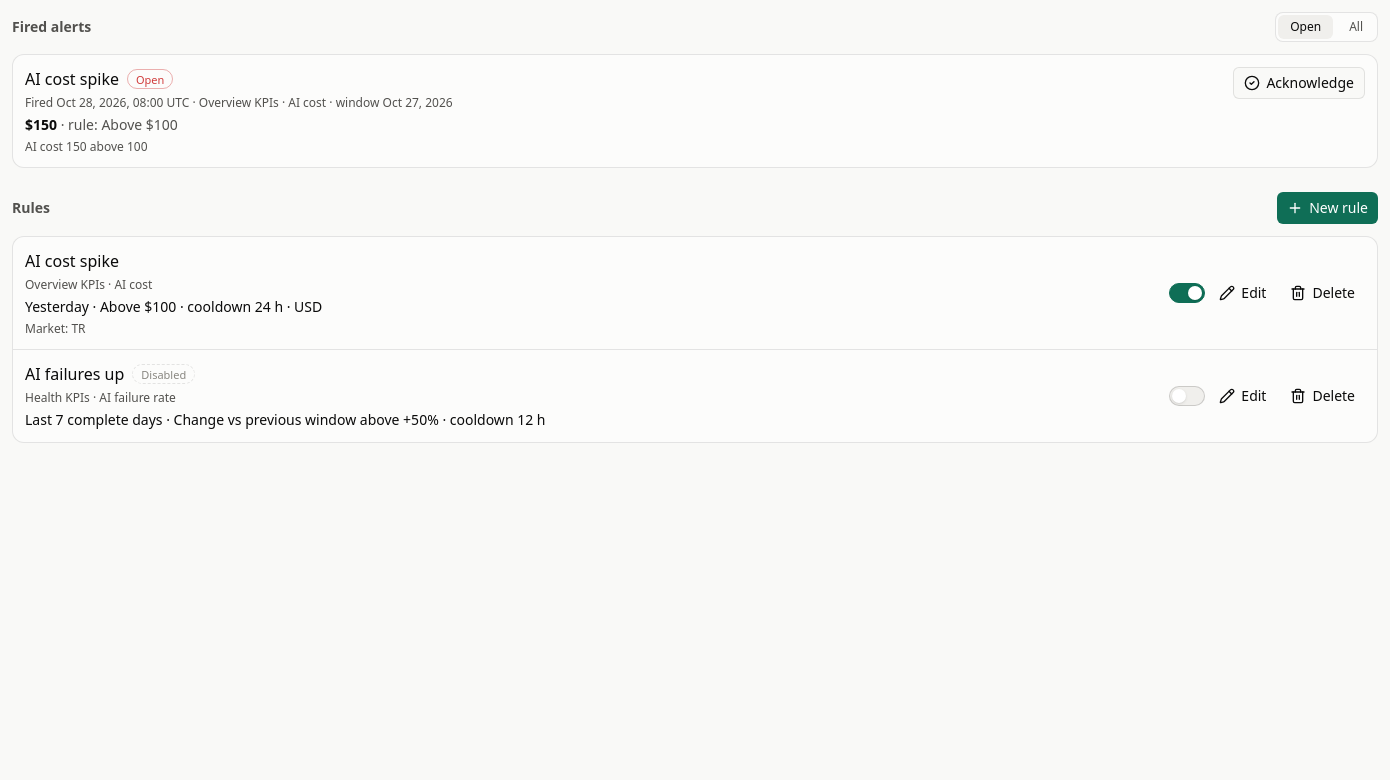
Test case: Alerts page › shows open events with value vs threshold, and all events with baselines and who acknowledged
This screenshot has width=1390, height=780.
Expected: the text "$150" is shown, [25,115,57,134]
Expected: the text "· rule: Above $100" is shown, [57,115,178,134]
What coordinates should you click on to do the following:
click the tab "All"
I would click on:
 (1356, 27)
Its box is [1337,15,1375,39].
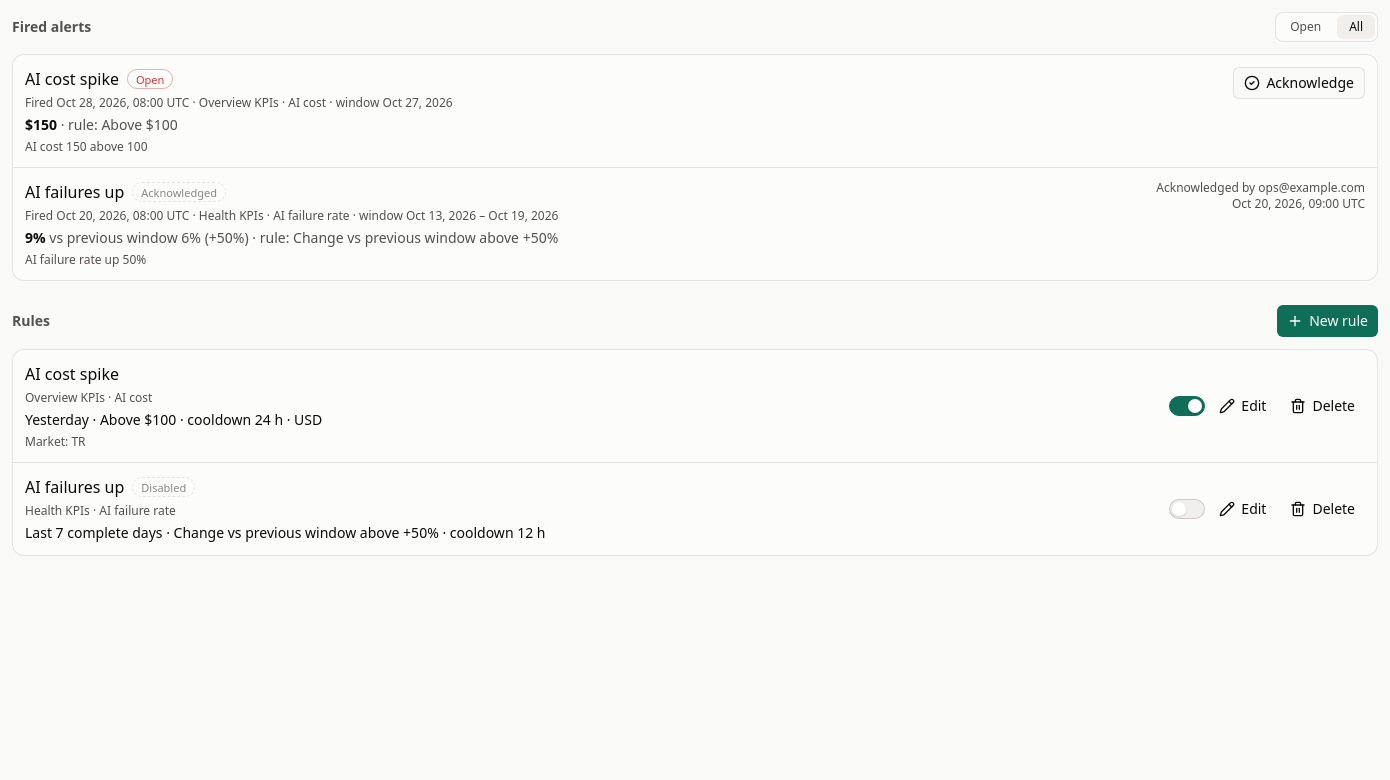
Expected: the text "9%" is shown, [25,228,46,247]
Expected: the text "vs previous window 6% (+50%)" is shown, [46,228,249,247]
Expected: the text "Acknowledged by ops@example.com Oct 20, 2026, 09:00 UTC" is shown, [1156,179,1365,212]
